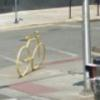bicycles: (16, 31, 46, 77)
